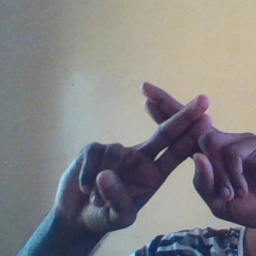F: (89, 72, 254, 197)
